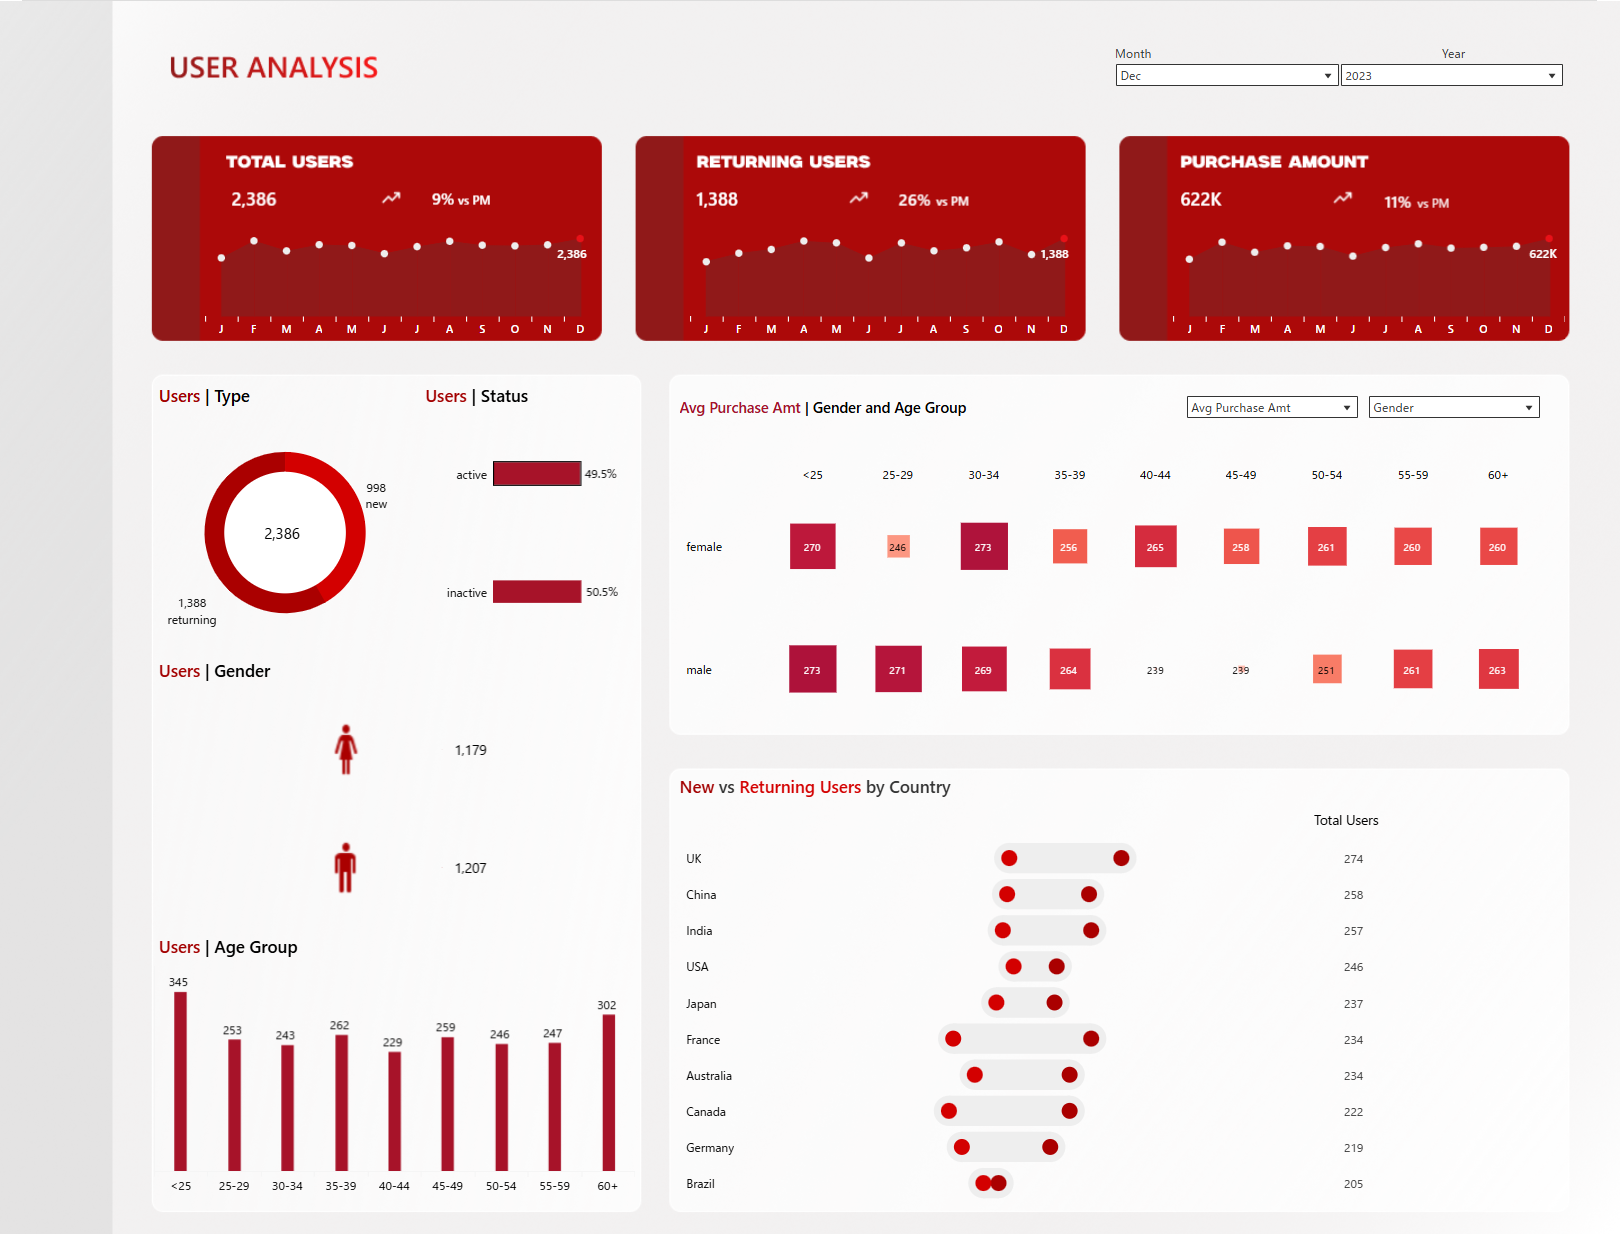

What the dashboard file says about the page in this screenshot:
{"tool":"tableau","page":{"name":"User Analysis","canvas":[1440,1100],"ordinal":0},"visuals":[{"type":"image","param":"Image/Screen 8 (1).png","box":[0,0,1440,1100]},{"type":"blank","box":[4,4,93,1099]},{"type":"blank","box":[349,24,71.4,61]},{"type":"blank","box":[420.4,24,71.4,61]},{"type":"blank","box":[491.7,24,71.4,61]},{"type":"blank","box":[563.1,24,71.4,61]},{"type":"blank","box":[634.4,24,71.4,61]},{"type":"blank","box":[705.8,24,71.4,61]},{"type":"blank","box":[777.1,24,71.4,61]},{"type":"blank","box":[848.5,24,71.4,61]},{"type":"blank","box":[919.8,24,71.4,61]},{"type":"parameter","param":"[Parameters].[Parameter 2]","box":[991.2,24,199.4,61]},{"type":"parameter","param":"[Parameters].[Parameter 1]","box":[1190.5,24,199.4,61]},{"type":"blank","box":[1389.9,24,48,61]},{"type":"blank","box":[97,85,1341,32]},{"type":"blank","box":[97,117,38,187]},{"type":"text","box":[178,117,356,33]},{"type":"blank","box":[534,117,32,187]},{"type":"text","box":[609,117,355,33]},{"type":"blank","box":[964,117,32,187]},{"type":"text","box":[1039,117,356,33]},{"type":"blank","box":[1395,117,43,187]},{"type":"blank","box":[178,150,20,50]},{"type":"worksheet","title":"Total Users CYCM BAN","mark":"Automatic","box":[198,150,100,50]},{"type":"worksheet","title":"Total Users % Growth BAN","mark":"Shape","rows":["Calculation_248542449448222749"],"cols":["Calculation_248542449448538143","Calculation_248542449448558624"],"box":[298,150,236,50]},{"type":"blank","box":[609,150,2,50]},{"type":"worksheet","title":"Returning Users CYCM BAN","mark":"Automatic","box":[611,150,100,50]},{"type":"worksheet","title":"Returning Users % Growth BAN ","mark":"Shape","rows":["Calculation_248542449448222749"],"cols":["Calculation_248542449448538143","Calculation_248542449448558624"],"box":[711,150,253,50]},{"type":"blank","box":[1039,150,2,50]},{"type":"worksheet","title":"Total Purchase Amt CYCM BAN ","mark":"Automatic","box":[1041,150,100,50]},{"type":"worksheet","title":"Purchasing Amt % Growth BAN","mark":"Shape","rows":["Calculation_248542449448222749"],"cols":["Calculation_248542449448538143","Calculation_248542449448558624"],"box":[1141,150,254,50]},{"type":"worksheet","title":"Total Users Trend","mark":"Area","rows":["User_ID","User_ID"],"cols":["Date"],"box":[178,200,356,104]},{"type":"worksheet","title":"Returning Users Trend","mark":"Area","rows":["User_ID","User_ID"],"cols":["Date"],"box":[609,200,355,104]},{"type":"worksheet","title":"Total Purchase Amt Trend","mark":"Area","rows":["Average_Purchase_Amount","Average_Purchase_Amount"],"cols":["Date"],"box":[1039,200,356,104]},{"type":"blank","box":[97,304,1341,32]},{"type":"blank","box":[97,336,36,735]},{"type":"text","box":[133,336,241,38]},{"type":"text","box":[374,336,194,38]},{"type":"blank","box":[568,336,32,735]},{"type":"text","box":[600,336,450,50]},{"type":"parameter","param":"[Parameters].[Parameter 4]","box":[1050,336,162,50]},{"type":"parameter","param":"[Parameters].[Parameter 3]","box":[1212,336,162,50]},{"type":"blank","box":[1406,336,32,735]},{"type":"worksheet","title":"Users By Type","mark":"Pie","rows":["Calculation_1904741211930062856","Calculation_1904741211930062856"],"box":[133,374,241,207]},{"type":"worksheet","title":"Users By Status","mark":"Bar","rows":["User_Status"],"cols":["User_ID"],"box":[374,374,194,207]},{"type":"blank","box":[600,386,774,20]},{"type":"worksheet","title":"Purchase Amount by Gender and Age Group (2)","mark":"Shape","rows":["Calculation_248542449270898694"],"cols":["Calculation_1904741211936395276"],"box":[600,406,774,246]},{"type":"text","box":[133,581,435,38]},{"type":"worksheet","title":"Users by Gender","mark":"Shape","rows":["Gender"],"cols":["Calculation_1904741211949096999","Calculation_1904741211949219880"],"box":[133,619,435,207]},{"type":"blank","box":[600,652,774,32]},{"type":"text","box":[600,684,774,38]},{"type":"blank","box":[600,722,194,32]},{"type":"blank","box":[794,722,194,32]},{"type":"blank","box":[988,722,168,32]},{"type":"text","box":[1156,722,218,32]},{"type":"worksheet","title":"New vs Returning Users By Country","mark":"Automatic","rows":["Country"],"cols":["User_ID","User_ID","Calculation_248542449428287503"],"box":[600,754,774,316.9]},{"type":"text","box":[133,826,435,38]},{"type":"worksheet","title":"Users By Age Group","mark":"Bar","rows":["User_ID"],"cols":["Calculation_1904741211936395276"],"box":[133,864,435,207]},{"type":"blank","box":[97,1071,1341,32]}]}

Visuals, with their boxes in screenshot pixels (x1, y1, x2, y2), scaled from the page's 1440x1100 canvas onto the 1624x1234 screenshot:
image: Rect(0, 0, 1623, 1233)
blank: Rect(5, 4, 109, 1233)
blank: Rect(394, 27, 474, 95)
blank: Rect(474, 27, 555, 95)
blank: Rect(555, 27, 635, 95)
blank: Rect(635, 27, 716, 95)
blank: Rect(715, 27, 796, 95)
blank: Rect(796, 27, 877, 95)
blank: Rect(876, 27, 957, 95)
blank: Rect(957, 27, 1037, 95)
blank: Rect(1037, 27, 1118, 95)
parameter: Rect(1118, 27, 1343, 95)
parameter: Rect(1343, 27, 1567, 95)
blank: Rect(1567, 27, 1622, 95)
blank: Rect(109, 95, 1622, 131)
blank: Rect(109, 131, 152, 341)
text: Rect(201, 131, 602, 168)
blank: Rect(602, 131, 638, 341)
text: Rect(687, 131, 1087, 168)
blank: Rect(1087, 131, 1123, 341)
text: Rect(1172, 131, 1573, 168)
blank: Rect(1573, 131, 1622, 341)
blank: Rect(201, 168, 223, 224)
"Total Users CYCM BAN" worksheet: Rect(223, 168, 336, 224)
"Total Users % Growth BAN" worksheet (Shape marks): Rect(336, 168, 602, 224)
blank: Rect(687, 168, 689, 224)
"Returning Users CYCM BAN" worksheet: Rect(689, 168, 802, 224)
"Returning Users % Growth BAN " worksheet (Shape marks): Rect(802, 168, 1087, 224)
blank: Rect(1172, 168, 1174, 224)
"Total Purchase Amt CYCM BAN " worksheet: Rect(1174, 168, 1287, 224)
"Purchasing Amt % Growth BAN" worksheet (Shape marks): Rect(1287, 168, 1573, 224)
"Total Users Trend" worksheet (Area marks): Rect(201, 224, 602, 341)
"Returning Users Trend" worksheet (Area marks): Rect(687, 224, 1087, 341)
"Total Purchase Amt Trend" worksheet (Area marks): Rect(1172, 224, 1573, 341)
blank: Rect(109, 341, 1622, 377)
blank: Rect(109, 377, 150, 1201)
text: Rect(150, 377, 422, 420)
text: Rect(422, 377, 641, 420)
blank: Rect(641, 377, 677, 1201)
text: Rect(677, 377, 1184, 433)
parameter: Rect(1184, 377, 1367, 433)
parameter: Rect(1367, 377, 1550, 433)
blank: Rect(1586, 377, 1622, 1201)
"Users By Type" worksheet (Pie marks): Rect(150, 420, 422, 652)
"Users By Status" worksheet (Bar marks): Rect(422, 420, 641, 652)
blank: Rect(677, 433, 1550, 455)
"Purchase Amount by Gender and Age Group (2)" worksheet (Shape marks): Rect(677, 455, 1550, 731)
text: Rect(150, 652, 641, 694)
"Users by Gender" worksheet (Shape marks): Rect(150, 694, 641, 927)
blank: Rect(677, 731, 1550, 767)
text: Rect(677, 767, 1550, 810)
blank: Rect(677, 810, 895, 846)
blank: Rect(895, 810, 1114, 846)
blank: Rect(1114, 810, 1304, 846)
text: Rect(1304, 810, 1550, 846)
"New vs Returning Users By Country" worksheet: Rect(677, 846, 1550, 1201)
text: Rect(150, 927, 641, 969)
"Users By Age Group" worksheet (Bar marks): Rect(150, 969, 641, 1201)
blank: Rect(109, 1201, 1622, 1233)
